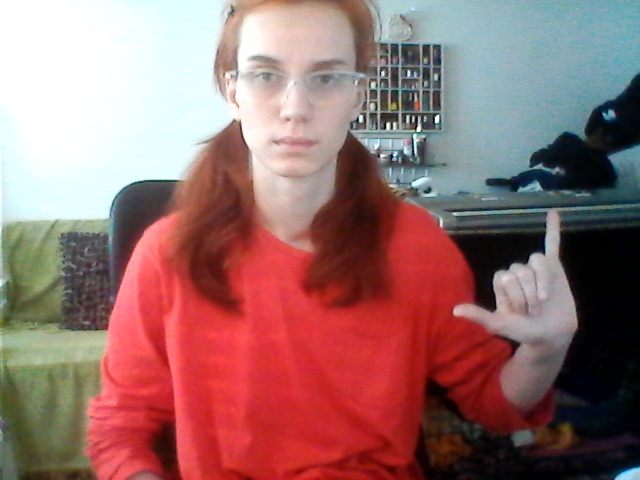kto: (438, 207, 591, 357)
